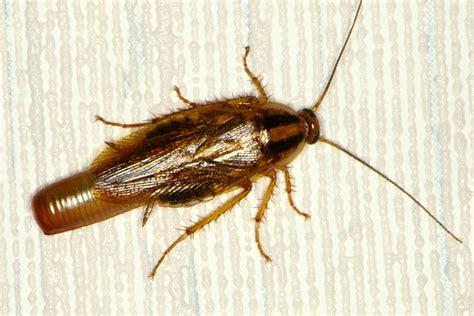cockroach: (88, 69, 323, 238)
